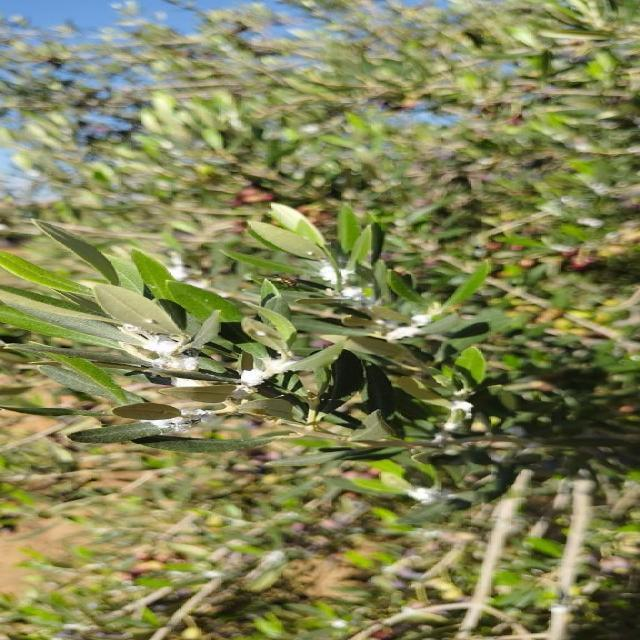Psyllid: (114, 324, 202, 372), (319, 261, 377, 310), (384, 302, 444, 342), (140, 409, 218, 437), (238, 356, 292, 392), (170, 381, 206, 387)
